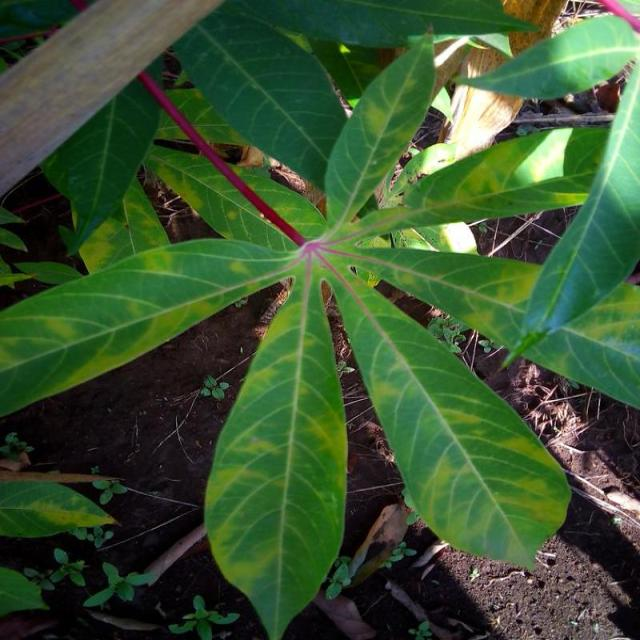cassava leaf: (2, 1, 640, 636), (330, 262, 573, 573), (203, 253, 350, 638), (324, 31, 438, 230)
